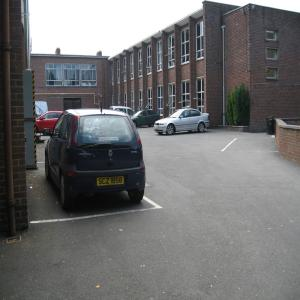Vehicle-registration-plate: (97, 177, 125, 188), (155, 127, 159, 130)
